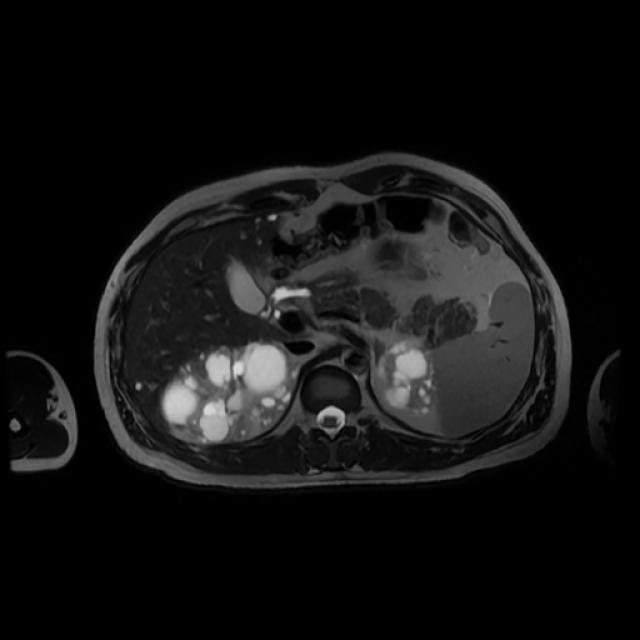sag: (160, 340, 296, 442)
sol: (381, 340, 436, 414)
